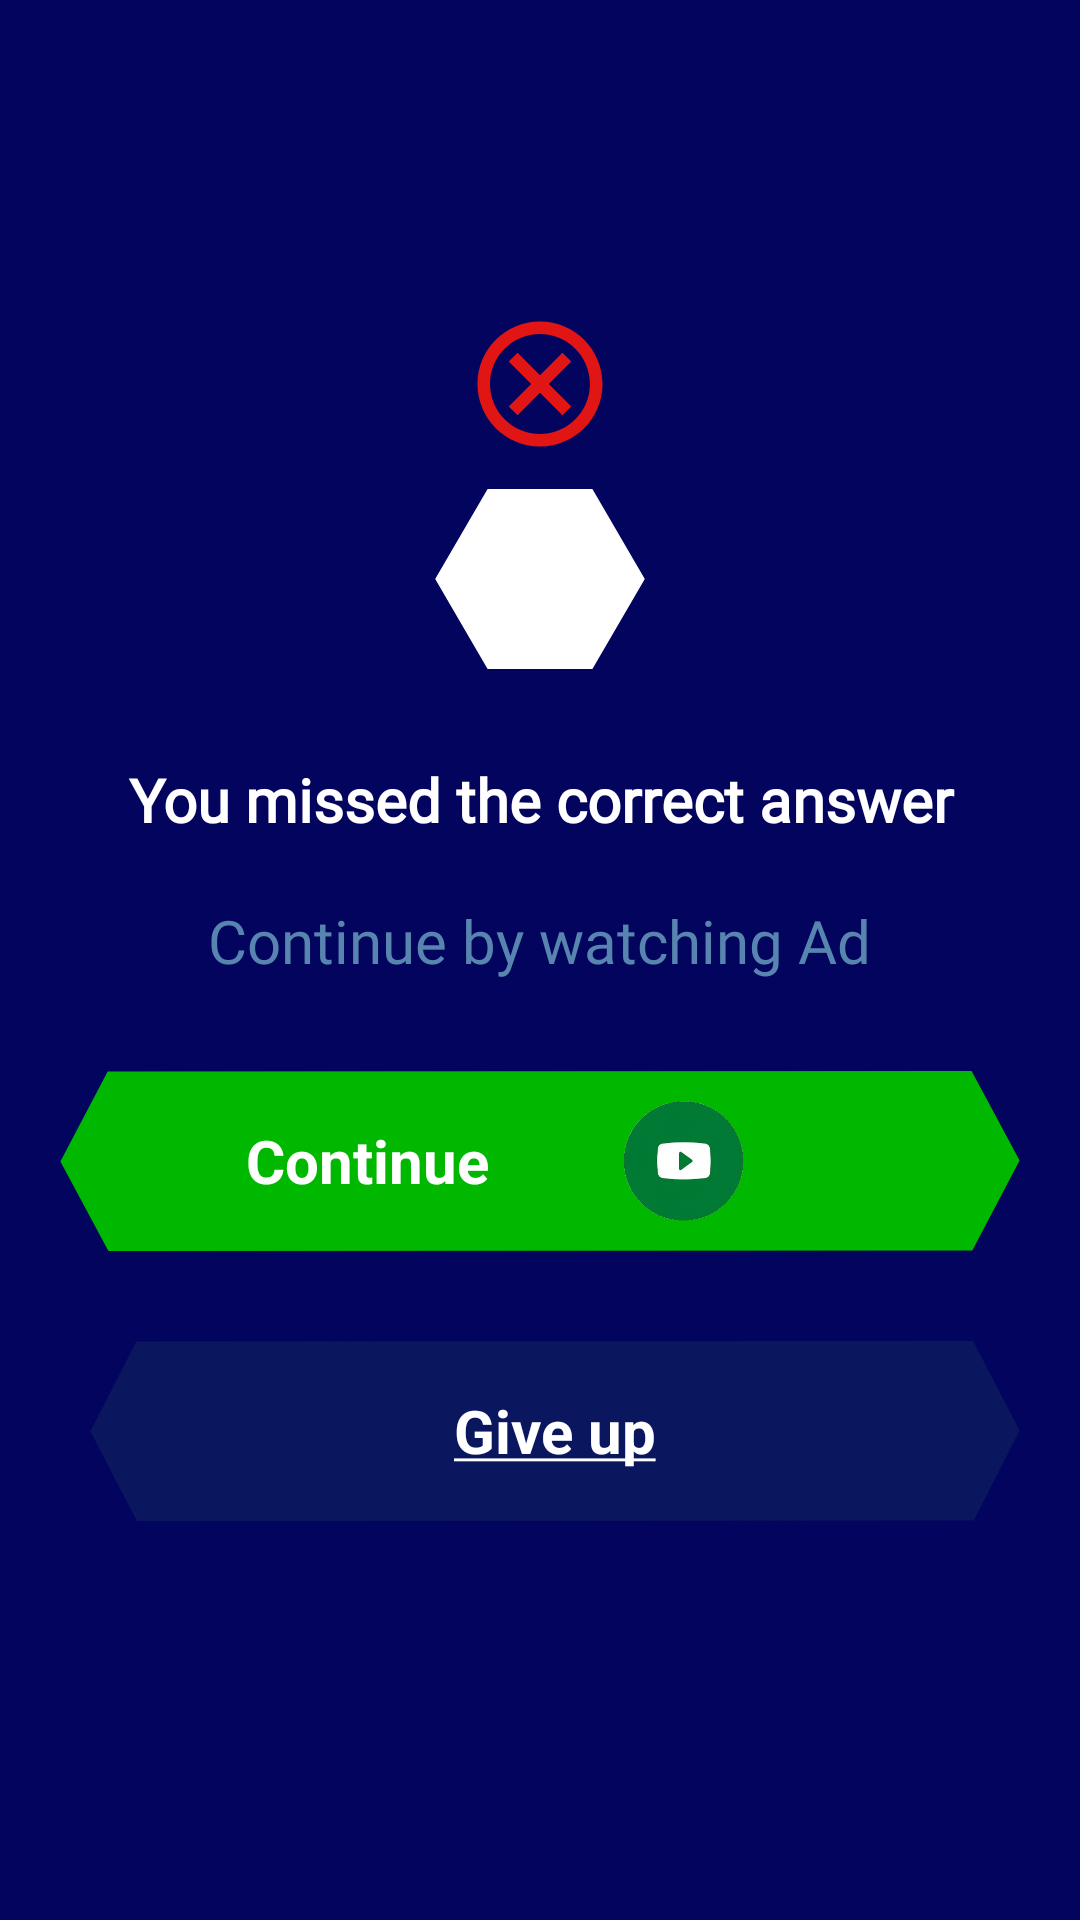

Locate icon controls on the screen. Image size 1080px×1920px, boxes as (x1, y1, x2, y2).
cancel: (477, 321, 603, 447)
